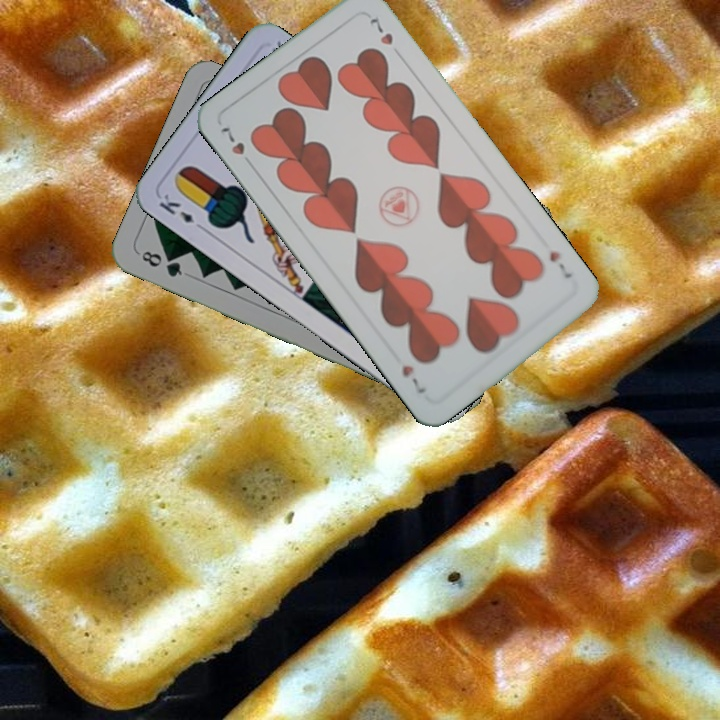EK: (155, 190, 208, 234)
G8: (137, 247, 185, 280)
H7: (216, 123, 257, 172), (545, 247, 575, 281)
